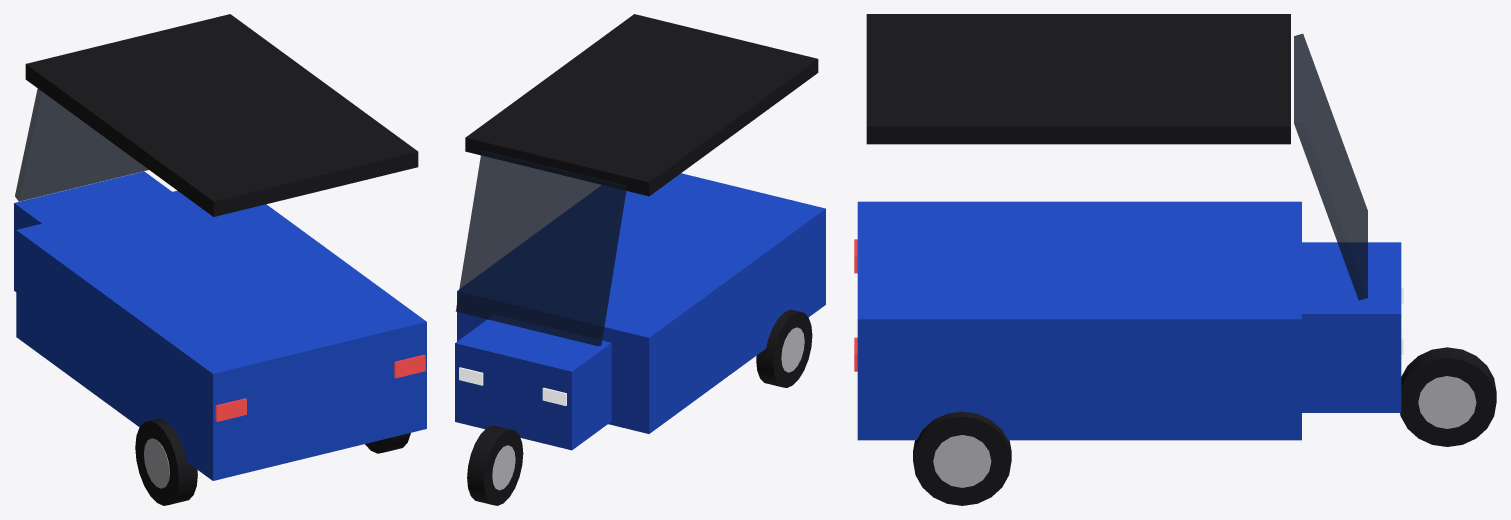
Rendered from etrike.glb.
3 renders of one model, left to right at view 1: azimuth 30°, elevation 25°; view 2: azimuth 150°, elevation 25°; view 3: azimuth 270°, elevation 25°, orthographic. The views are drawn at different scales.
Parts seen in each view (by area): view 1: Chassis_Lower, Canopy_Roof, Windshield, Chassis_Nose, Wheel_Rear_L, E_Trike_Vehicle, Wheel_Rear_R; view 2: Chassis_Lower, Canopy_Roof, Windshield, Chassis_Nose, Wheel_Front, Wheel_Rear_L, E_Trike_Vehicle; view 3: Chassis_Lower, Canopy_Roof, Chassis_Nose, Windshield, Wheel_Front, Wheel_Rear_R.
Part boxes in pixels (x1,y1,x2,y2): Chassis_Lower: (16,190,426,480); Canopy_Roof: (25,14,418,216); Windshield: (15,88,148,201); Chassis_Nose: (14,171,171,291); Wheel_Rear_L: (135,418,197,505); E_Trike_Vehicle: (215,354,425,421); Wheel_Rear_R: (365,433,410,453); Chassis_Lower: (457,173,825,433); Canopy_Roof: (465,14,818,196); Windshield: (455,151,626,346); Chassis_Nose: (455,315,611,450); Wheel_Front: (467,425,523,505); Wheel_Rear_L: (756,309,812,387); E_Trike_Vehicle: (459,367,566,405); Chassis_Lower: (857,201,1301,440); Canopy_Roof: (866,14,1290,144); Chassis_Nose: (1302,242,1401,412); Windshield: (1294,33,1367,300); Wheel_Front: (1400,347,1496,446); Wheel_Rear_R: (913,411,1011,505).
Bounding box in the file's own units: 1.26 × 1.69 × 2.65.
